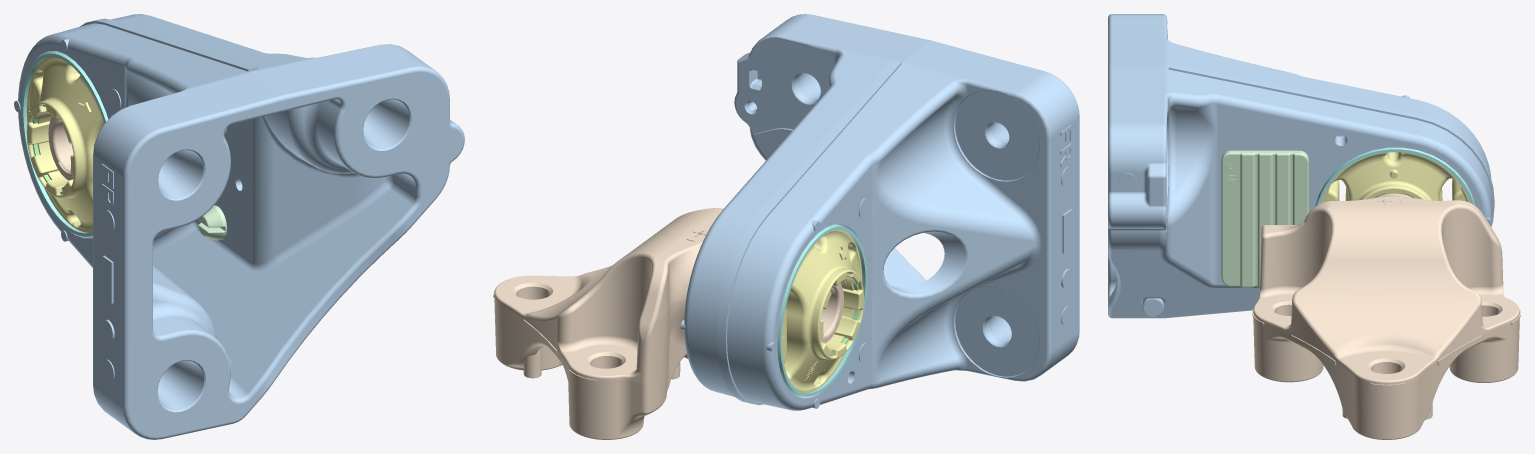
The picture shows the model from 3 angles, left to right: view 1: azimuth 30°, elevation 25°; view 2: azimuth 150°, elevation 25°; view 3: azimuth 270°, elevation 25°; orthographic projection. The views are drawn at different scales.
Visible parts, largest first — view 1: 1C0004-13-1, 1C0001-01(i‚èŒã)-1-1, 1C0001-11(i‚èŒã)-1-1, 1C0004-14-1, 1C0004-02-1; view 2: 1C0004-13-1, 1C0004-14-1, 1C0001-01(i‚èŒã)-1-1, 1C0001-11(i‚èŒã)-1-1; view 3: 1C0004-13-1, 1C0004-14-1, 1C0004-02-1, 1C0001-01(i‚èŒã)-1-1, 1C0001-11(i‚èŒã)-1-1.
Part boxes in pixels (x1,y1,x2,y2): 1C0004-13-1: (14, 14, 464, 439); 1C0001-01(i‚èŒã)-1-1: (26, 57, 104, 232); 1C0001-11(i‚èŒã)-1-1: (21, 51, 108, 236); 1C0004-14-1: (48, 116, 73, 180); 1C0004-02-1: (198, 128, 226, 240); 1C0004-13-1: (680, 14, 1079, 410); 1C0004-14-1: (493, 208, 843, 439); 1C0001-01(i‚èŒã)-1-1: (782, 229, 864, 392); 1C0001-11(i‚èŒã)-1-1: (777, 224, 867, 396); 1C0004-13-1: (1108, 14, 1494, 318); 1C0004-14-1: (1252, 193, 1520, 439); 1C0004-02-1: (1221, 150, 1308, 287); 1C0001-01(i‚èŒã)-1-1: (1321, 152, 1469, 203); 1C0001-11(i‚èŒã)-1-1: (1316, 147, 1475, 205).
Bounding box in the file's own units: 0.2388 × 0.1551 × 0.212.
